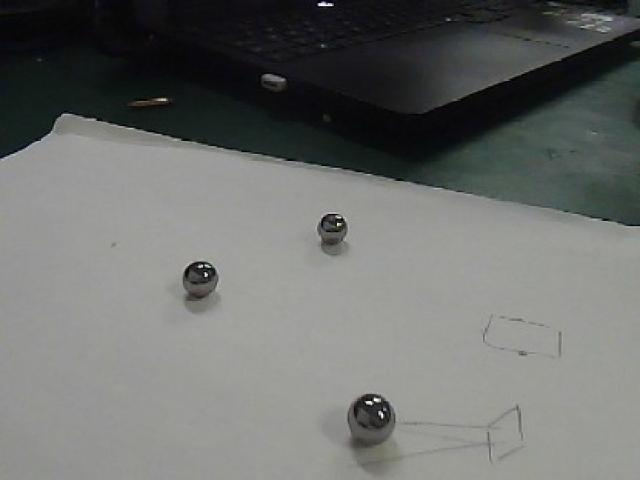steel-ball: (326, 374, 408, 451), (166, 248, 217, 302), (301, 200, 354, 245)
